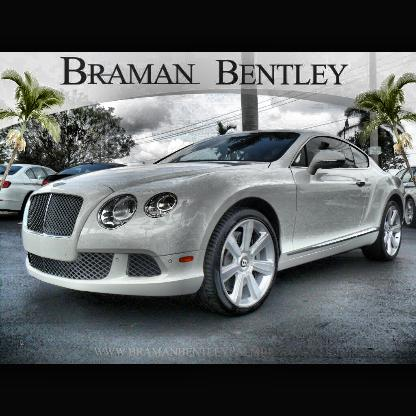Bentley Continental GT Coupe 2012: (22, 131, 407, 319)
